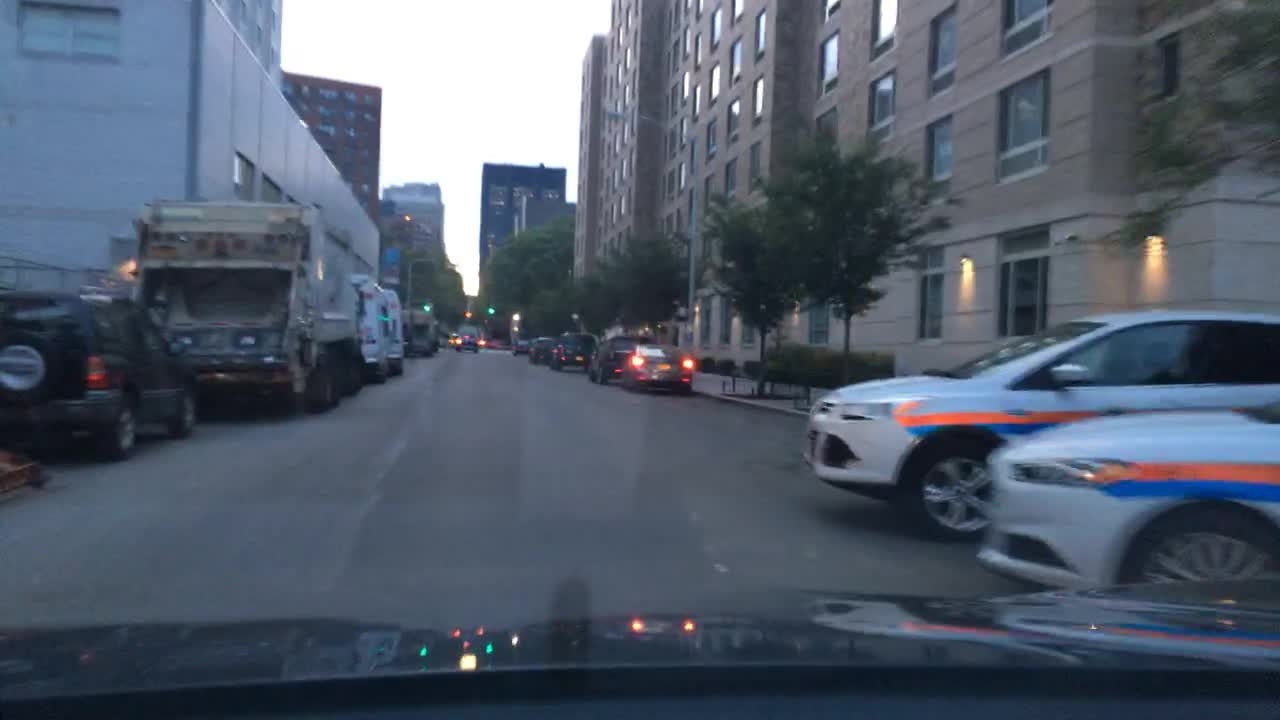car: (798, 294, 1277, 548), (973, 400, 1278, 592), (0, 282, 195, 462), (616, 341, 698, 393), (352, 275, 390, 384), (588, 335, 656, 386), (549, 330, 600, 370), (401, 307, 441, 356), (386, 287, 408, 375), (453, 321, 481, 351), (527, 335, 558, 362), (510, 339, 534, 357)
traffic light: (461, 309, 472, 321), (486, 304, 497, 316)
truck: (128, 198, 365, 416)
